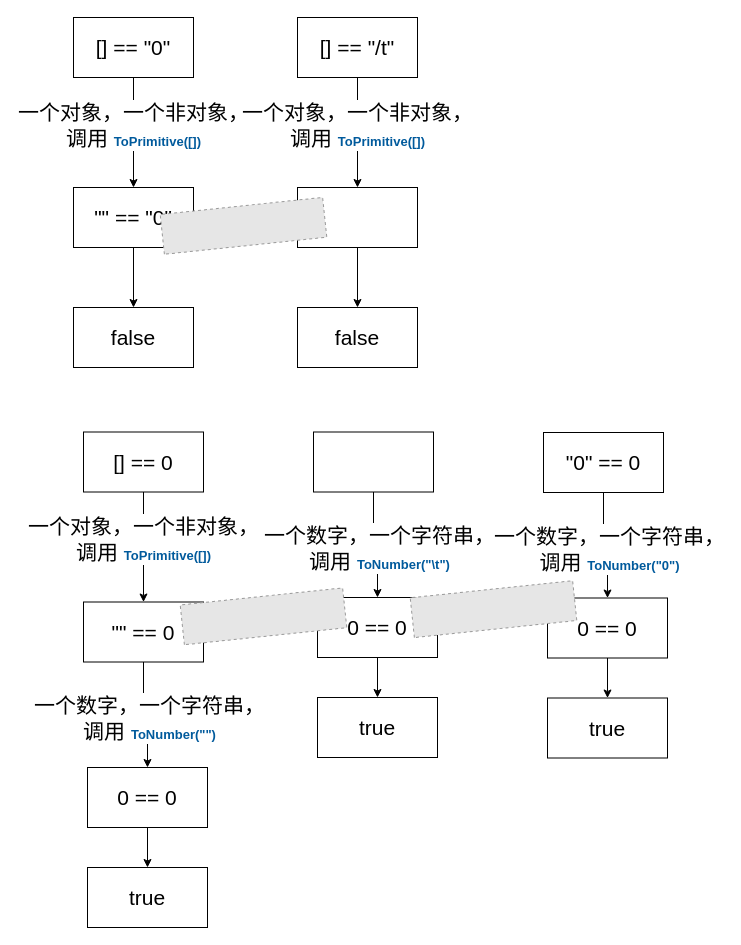
Some shapes in this 741 by 945 pixel diagram are drawn without their labels. Grey dashed boxes stand in for pictures. The centre of each missing label's shape, as x and y in pixels:
"" == "/t": point 357,217
"\t" == 0: point 373,461
